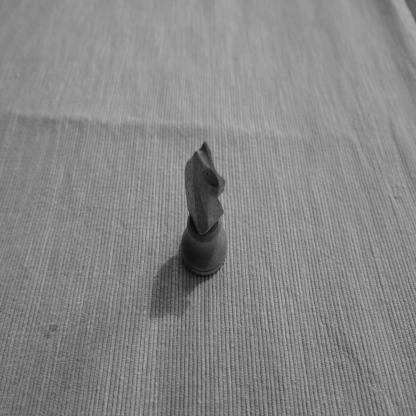white-knight: (180, 140, 228, 279)
